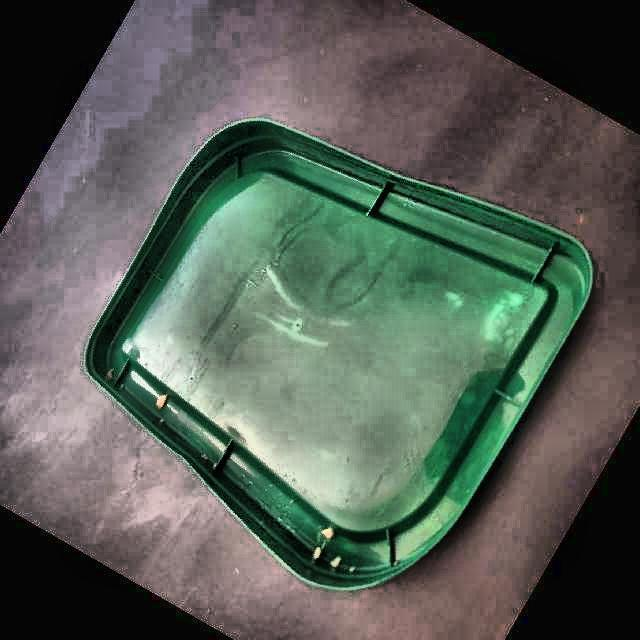plastic: (88, 120, 592, 588)
